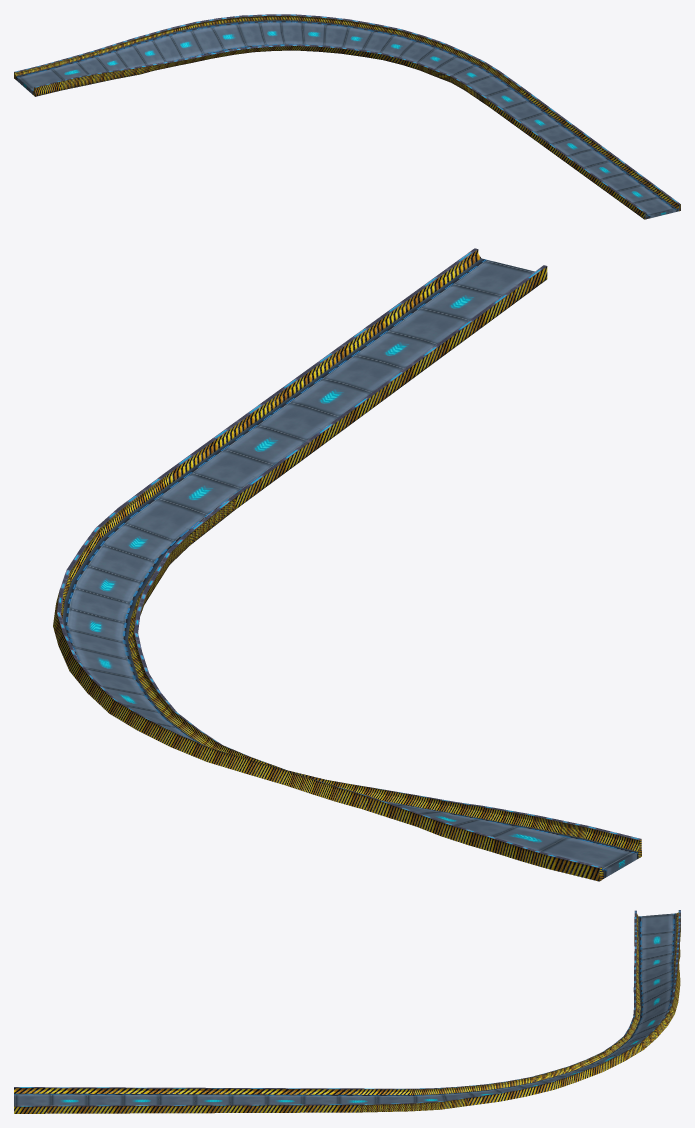
The picture shows the model from 3 angles, top to bottom: view 1: azimuth 30°, elevation 25°; view 2: azimuth 150°, elevation 25°; view 3: azimuth 270°, elevation 25°; orthographic projection. The views are drawn at different scales.
Visible parts, largest first — view 1: Box003; view 2: Box003; view 3: Box003.
Boxes of the visible parts, box(x1,y1,x2,y2) form: Box003: box(14, 14, 680, 219); Box003: box(53, 248, 641, 881); Box003: box(14, 910, 680, 1113).
Size of the model in its own units: 181 by 11.51 by 259.
